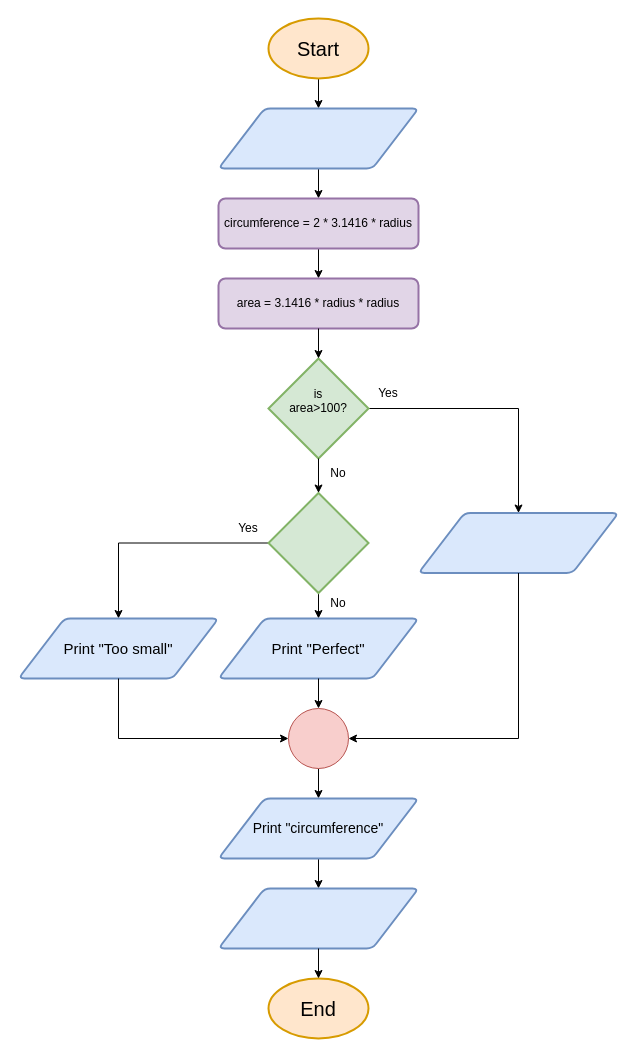
This 636x1056 diagram has some shape labels left out. The centre of each missing label's shape, as x and y in pixels:
Enter Radius: point 318,138
is area<50?: point 318,543
Print "area": point 318,918
Print "Too large": point 518,543
